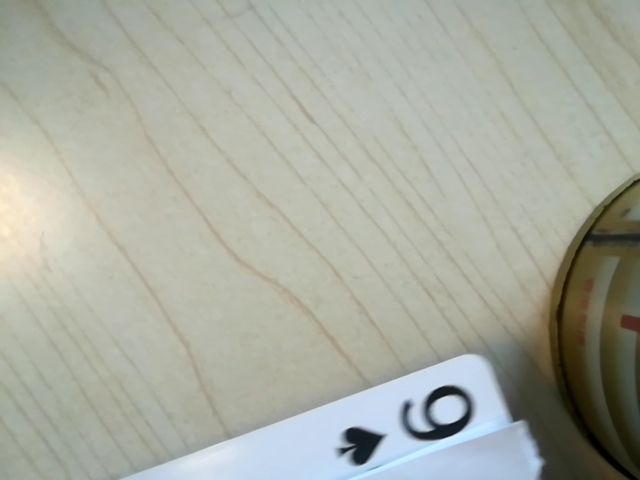ht 9: (333, 375, 501, 466)
